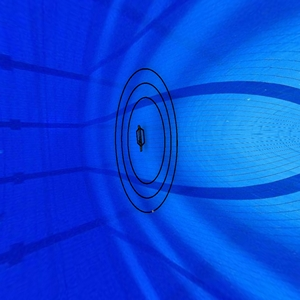circle: (109, 65, 184, 219)
submarine: (132, 125, 154, 152)
